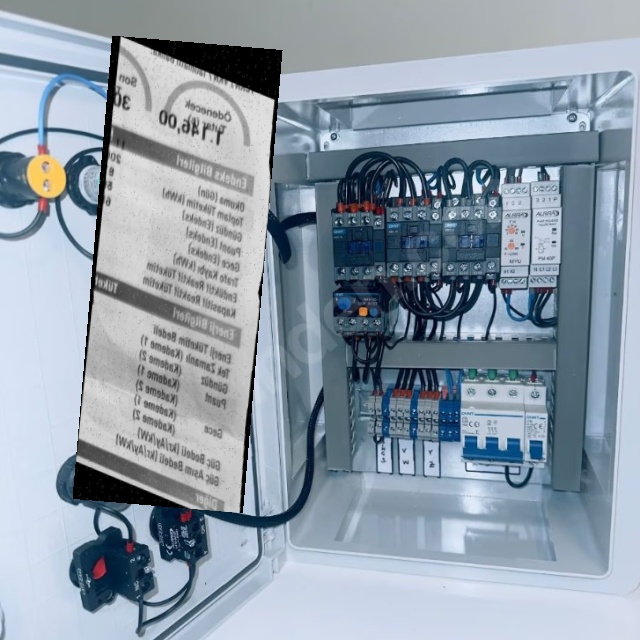electricity-bill: (73, 35, 283, 513)
